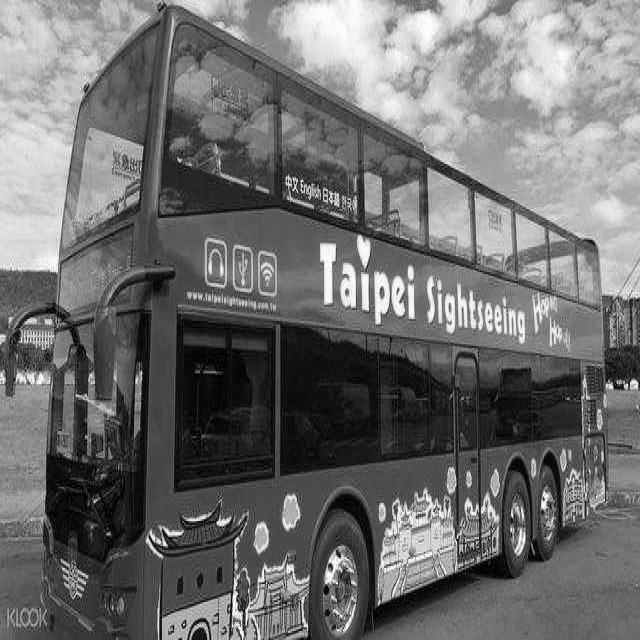Bus: (5, 7, 609, 639)
